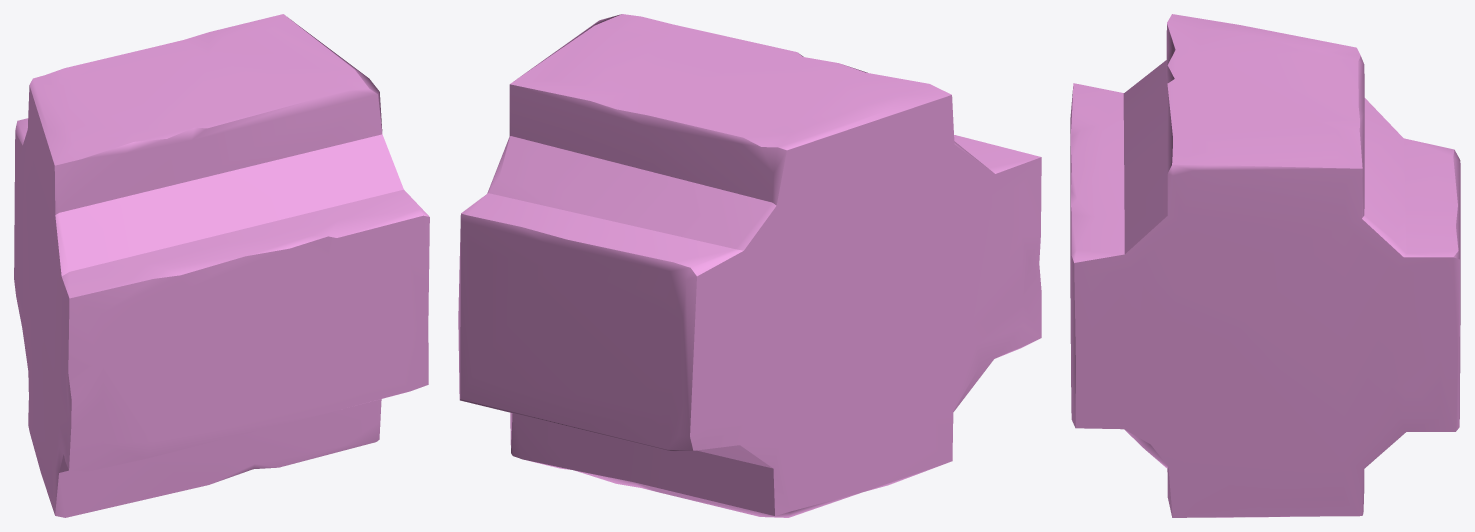
File: stone_element_07b.fbx
The picture shows the model from 3 angles, left to right: view 1: azimuth 30°, elevation 25°; view 2: azimuth 150°, elevation 25°; view 3: azimuth 270°, elevation 25°; orthographic projection. The views are drawn at different scales.
Visible parts, largest first — view 1: stone_element_07b_LOD0; view 2: stone_element_07b_LOD0; view 3: stone_element_07b_LOD0.
Part boxes in pixels (box(x1,y1,x2,y2)): stone_element_07b_LOD0: box(14, 14, 429, 517); stone_element_07b_LOD0: box(458, 14, 1041, 517); stone_element_07b_LOD0: box(1070, 14, 1460, 517).
Size of what is drawn, in the model's own units: 122 by 116 by 116.
